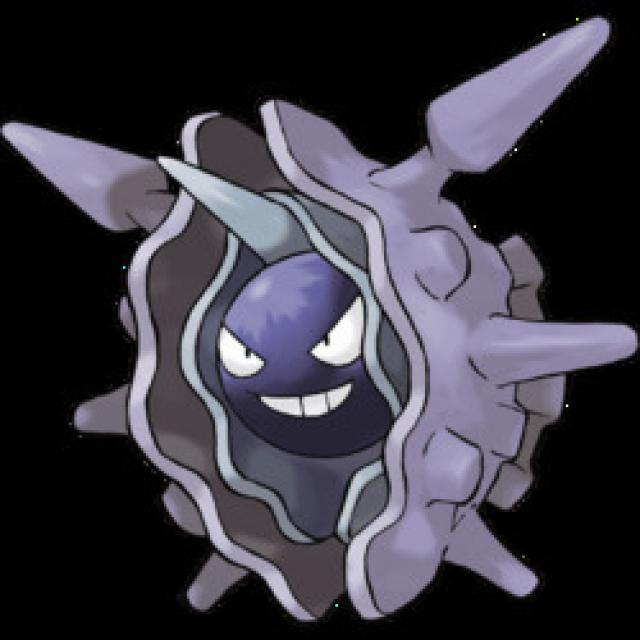Cloyster: (81, 101, 574, 609)
